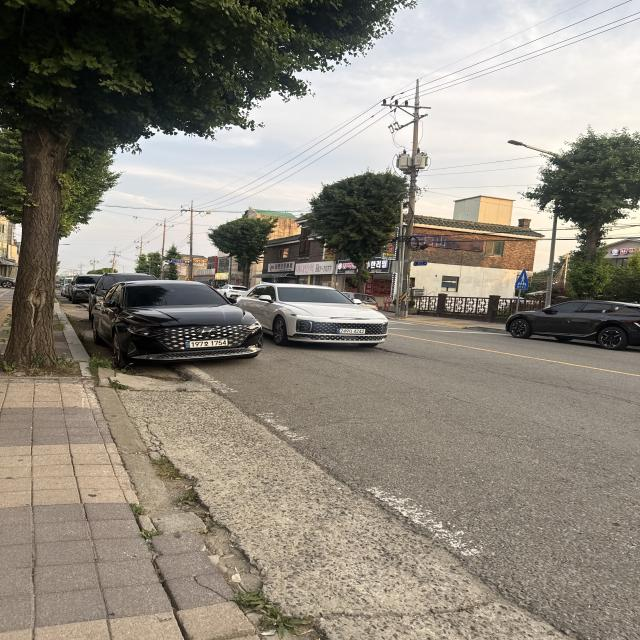car: (91, 278, 264, 369), (235, 282, 384, 348), (504, 298, 638, 351)
